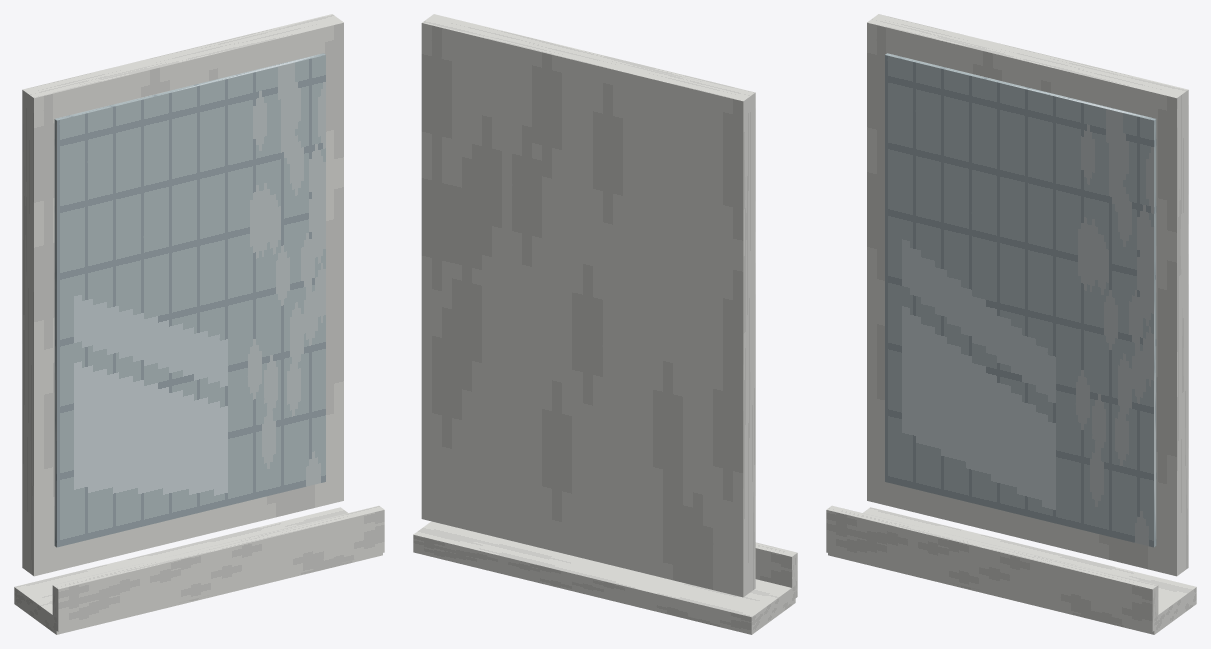
File: bath_mirror.glb
3 views of the same model, side by side, from view 1: azimuth 30°, elevation 25°; view 2: azimuth 150°, elevation 25°; view 3: azimuth 330°, elevation 25° (orthographic). The views are drawn at different scales.
Visible parts, largest first — view 1: Cube; view 2: Cube; view 3: Cube.
Part boxes in pixels (<box>): Cube: <box>14,14,384,634</box>; Cube: <box>413,14,797,634</box>; Cube: <box>826,14,1196,634</box>.
Size of the model in its own units: 0.4 by 0.6 by 0.094.
Materials: 2 (2 with a texture image).
